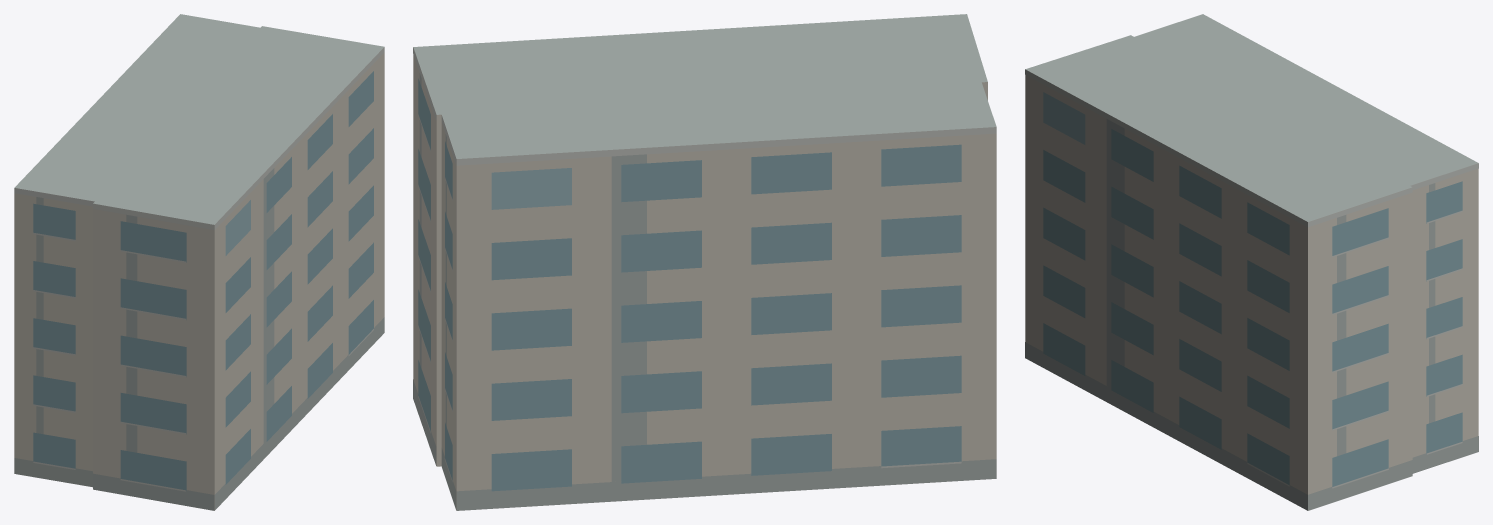
The model's file is survey-upis-32965352.glb.
3 views of the same model, side by side, from view 1: azimuth 30°, elevation 25°; view 2: azimuth 150°, elevation 25°; view 3: azimuth 270°, elevation 25° (orthographic). The views are drawn at different scales.
Parts seen in each view (by area): view 1: survey-upis-32965352.tmp; view 2: survey-upis-32965352.tmp; view 3: survey-upis-32965352.tmp.
Part boxes in pixels (x1=…): survey-upis-32965352.tmp: x1=14, y1=14, x2=384, y2=510; survey-upis-32965352.tmp: x1=413, y1=14, x2=996, y2=510; survey-upis-32965352.tmp: x1=1025, y1=14, x2=1478, y2=510.
Bounding box in the file's own units: 20.25 × 13.1 × 18.66.
